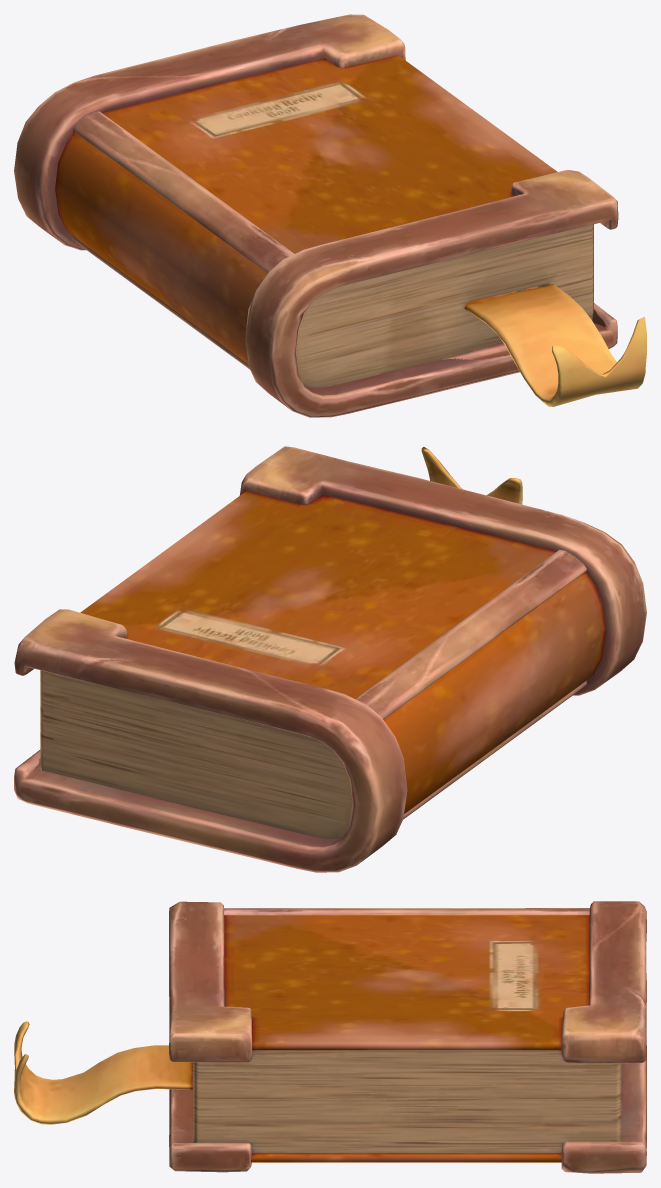
3 views of the same model, one above another, from view 1: azimuth 30°, elevation 25°; view 2: azimuth 150°, elevation 25°; view 3: azimuth 270°, elevation 25° (orthographic). The views are drawn at different scales.
Parts seen in each view (by area): view 1: SM_Cook_Book_01_LOD0; view 2: SM_Cook_Book_01_LOD0; view 3: SM_Cook_Book_01_LOD0.
Part boxes in pixels (<box>): SM_Cook_Book_01_LOD0: <box>14,14,646,417</box>; SM_Cook_Book_01_LOD0: <box>14,446,646,872</box>; SM_Cook_Book_01_LOD0: <box>14,901,646,1173</box>.
Bounding box in the file's own units: 0.2949 × 0.1242 × 0.5018.
Materials: 1 (1 with a texture image).
